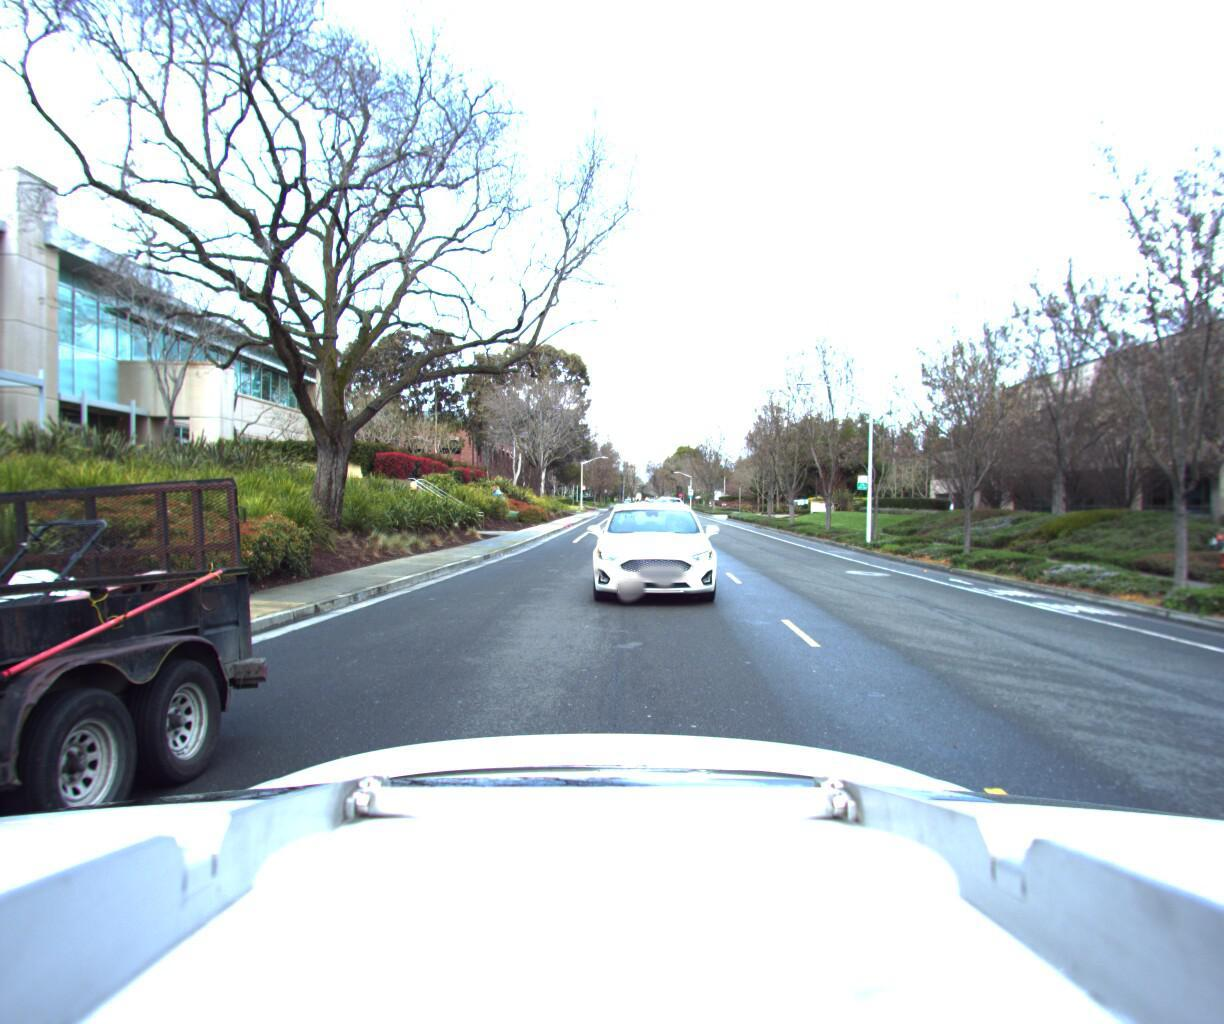car: (579, 494, 735, 614), (647, 498, 690, 517)
